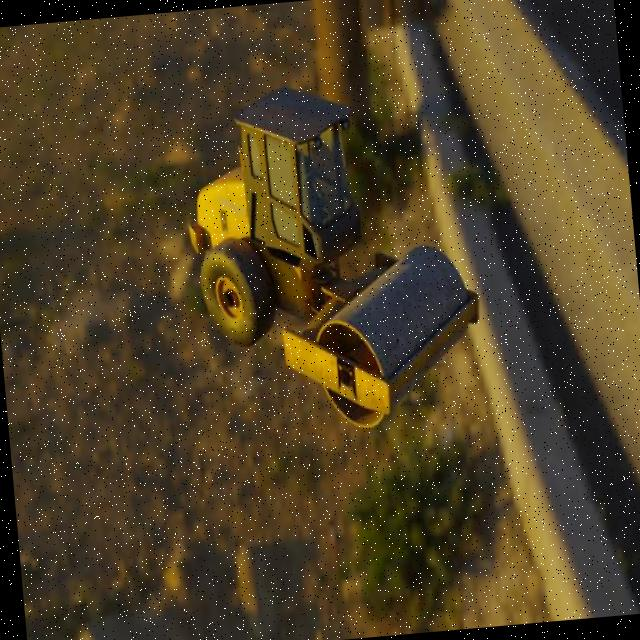Roller: (176, 70, 489, 440)
